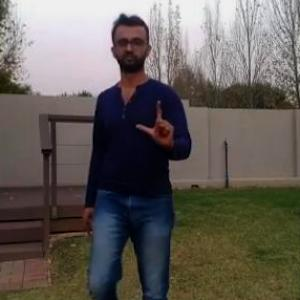land_hand: (133, 98, 179, 153)
